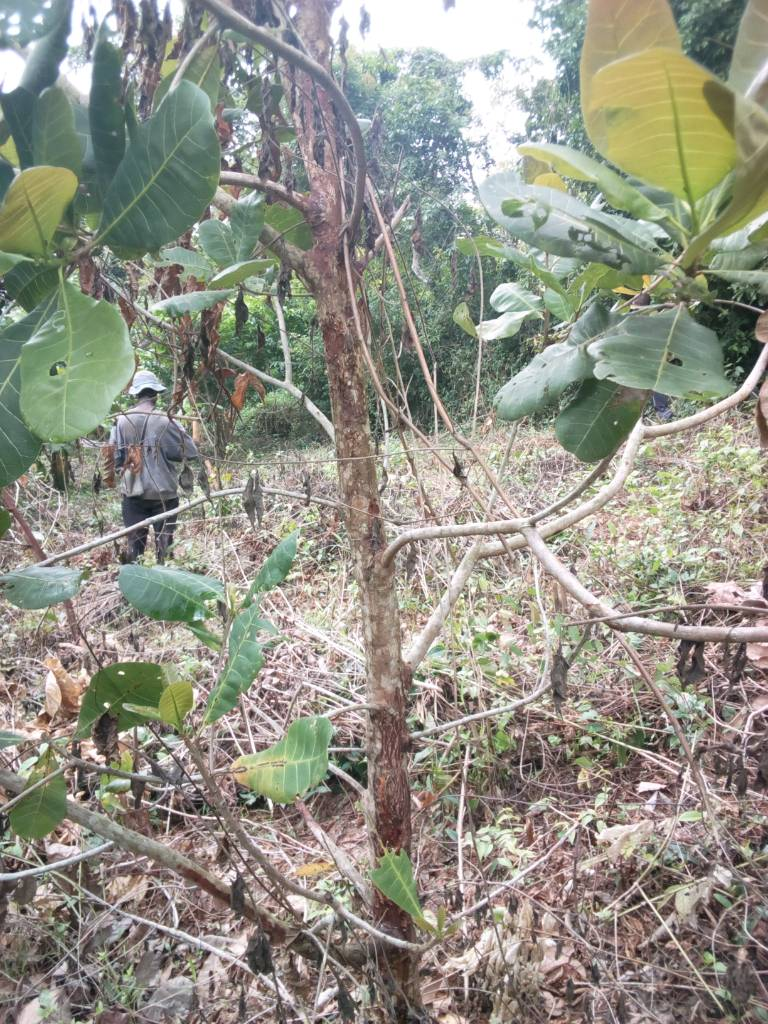Anthracnose: (219, 716, 347, 800)
